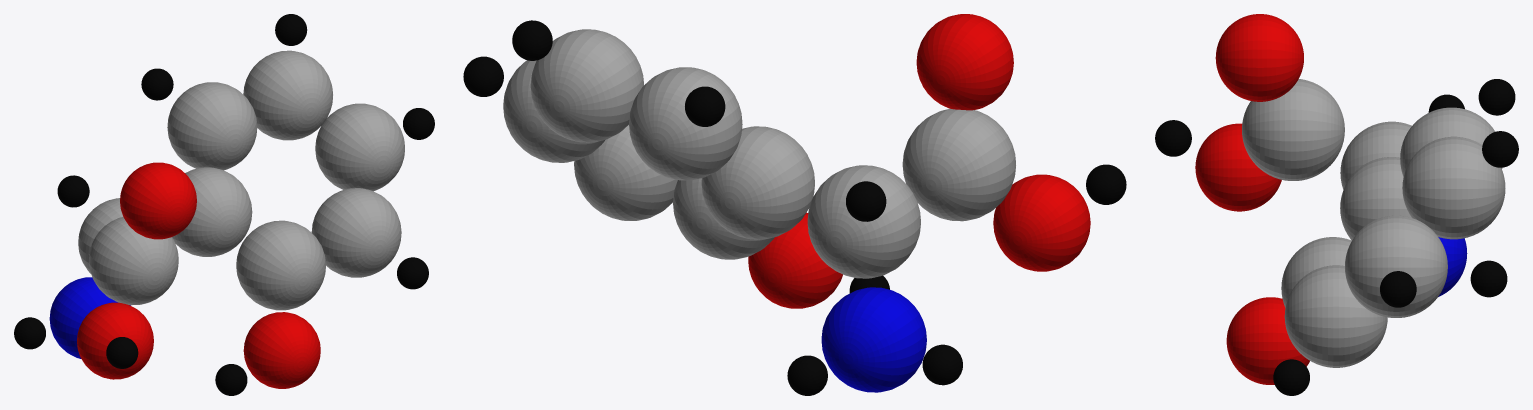
The model's file is Dopamine.glb.
3 renders of one model, left to right at view 1: azimuth 30°, elevation 25°; view 2: azimuth 150°, elevation 25°; view 3: azimuth 270°, elevation 25°, orthographic. The views are drawn at different scales.
Visible parts, largest first — view 1: world; view 2: world; view 3: world.
Boxes of the visible parts, x1=… form: world: x1=14, y1=14, x2=434, y2=395; world: x1=463, y1=14, x2=1126, y2=395; world: x1=1155, y1=14, x2=1518, y2=395.
Bounding box in the file's own units: 7.59 × 4.63 × 4.94.
